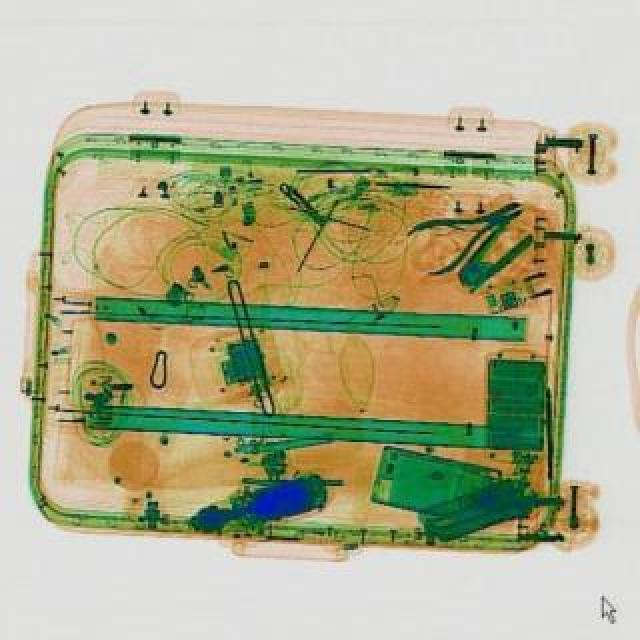wrench: (400, 182, 536, 280)
